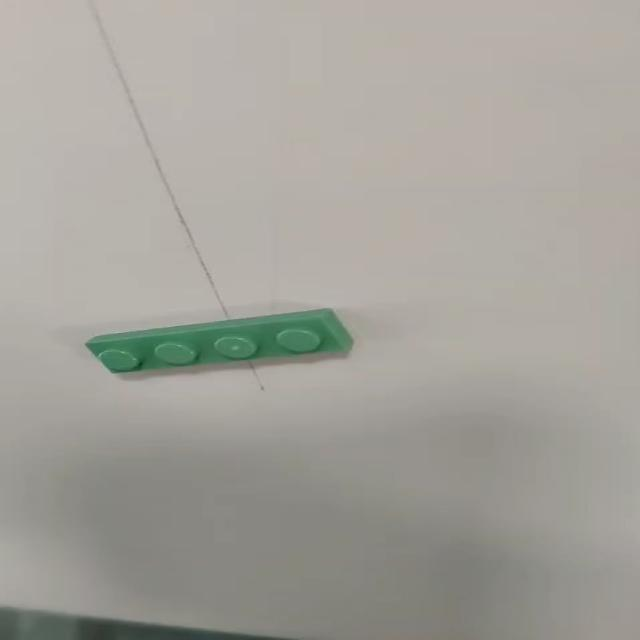C4x1x0: (74, 301, 357, 380)
